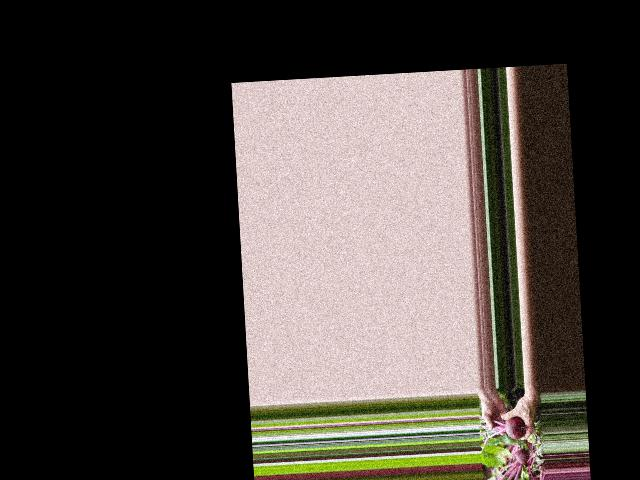beet: (479, 415, 527, 453)
